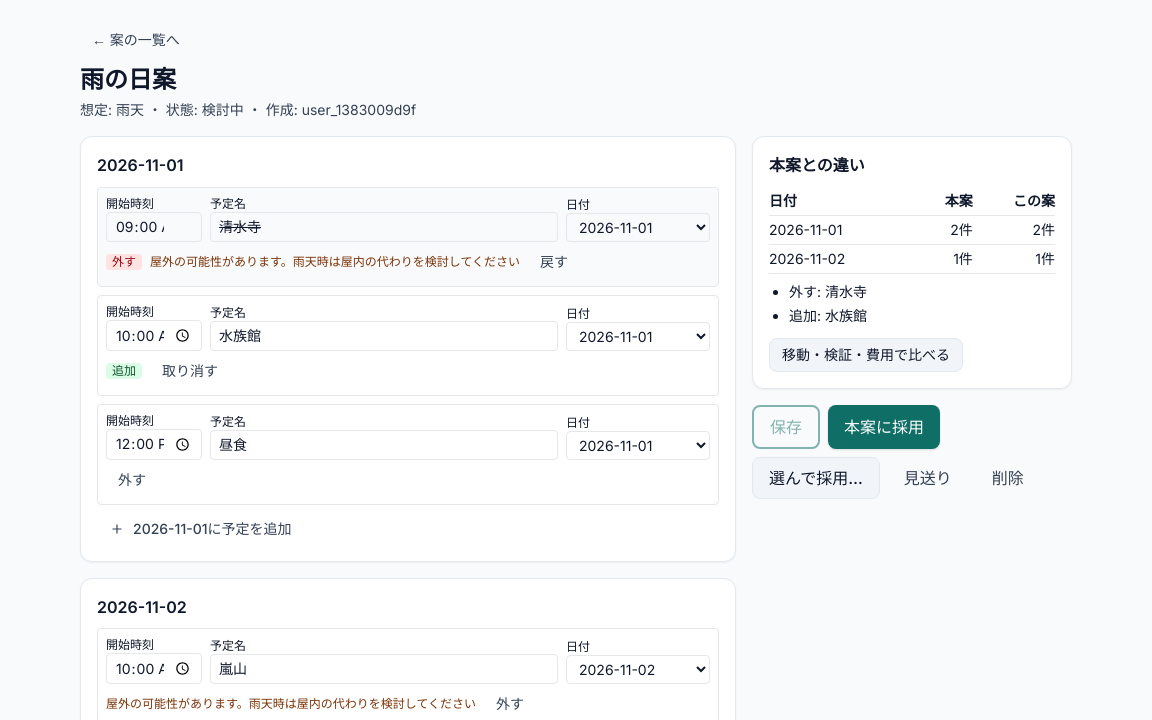
BranchDetailPage (Gate P7) › 採用: 確認のうえrevision付きで採用し、元に戻せることを案内する。409では理由を再取得する
Click the button "本案に採用": (884, 427) [828,405,940,449]
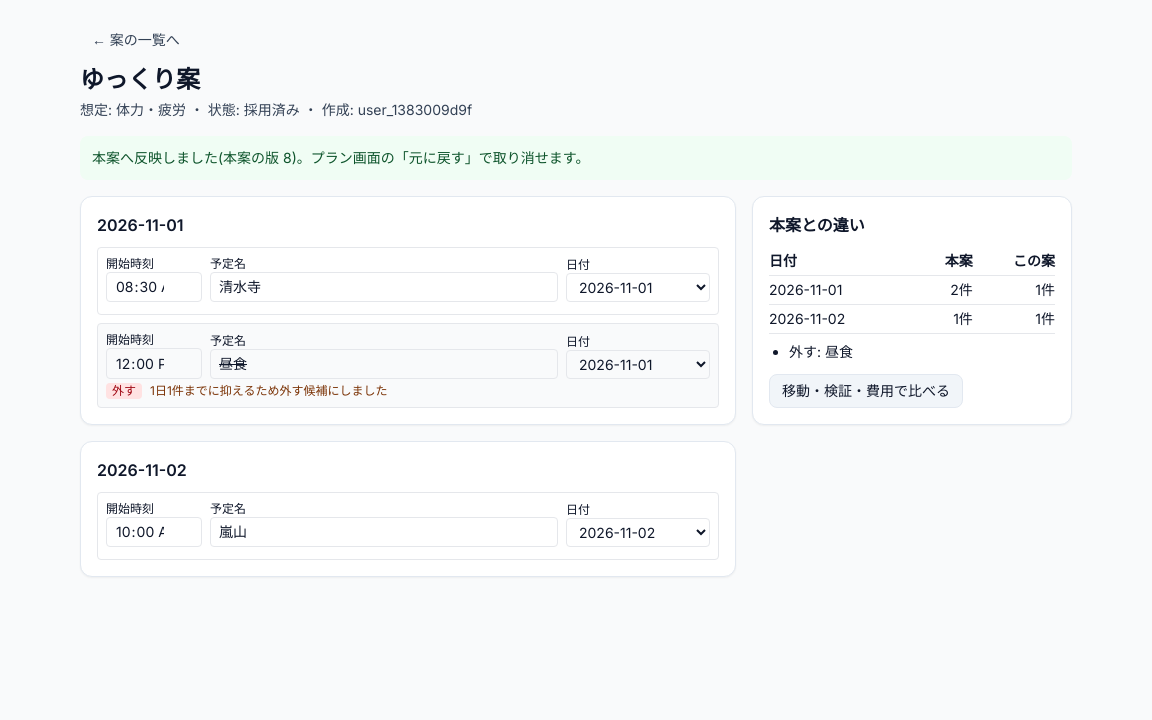
Check: the text "本案へ反映しました(本案の版 8)。プラン画面の「元に戻す」で取り消せます。" is shown, box [80,136,1072,180]
Check: the button "本案に採用" is gone
